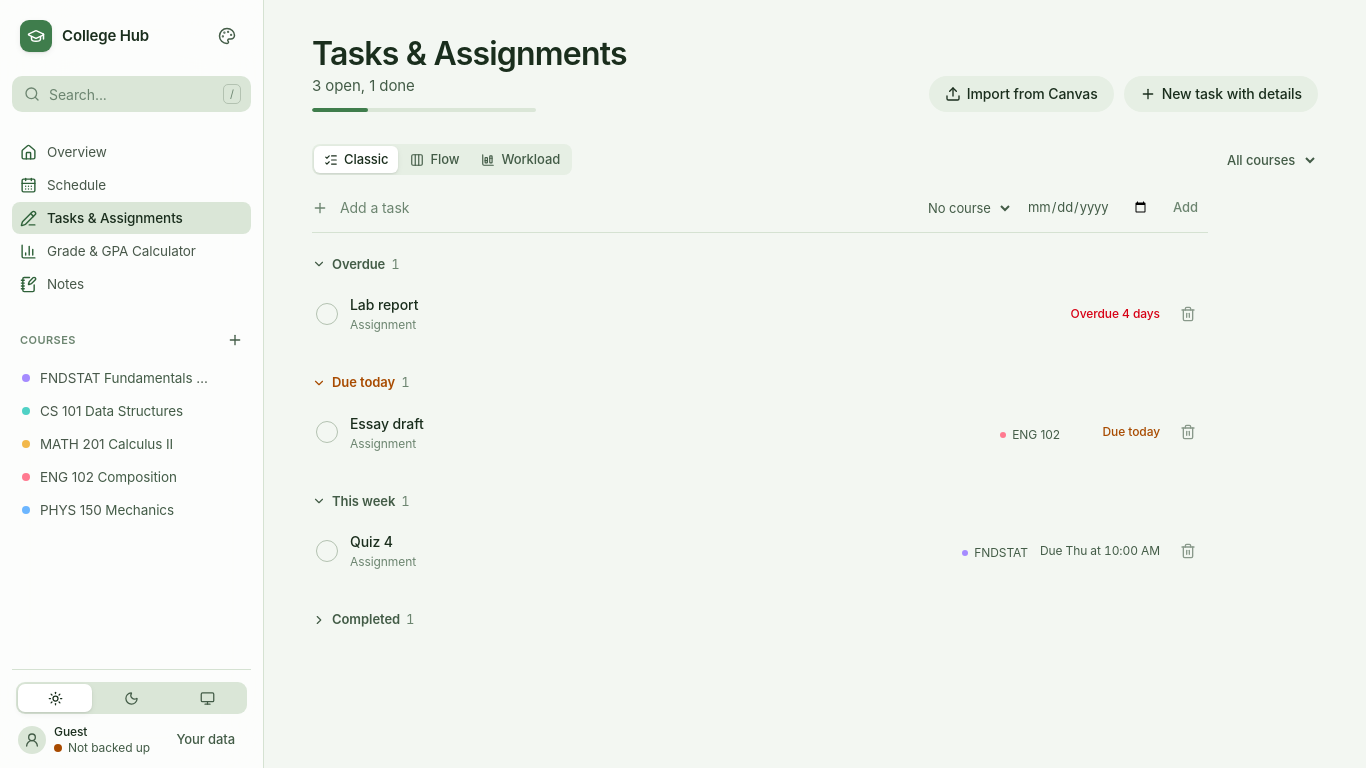
Test: Classic › groups open work by when it is due, with finished work folded away
expect the picture named "25 percent of tasks done" is shown: met, box [312,108,536,112]
expect the element "Overdue" shows "Lab report": met, box [350,290,950,337]
Click the button "Completed 1". click: (363, 620)
box: [308,608,418,632]
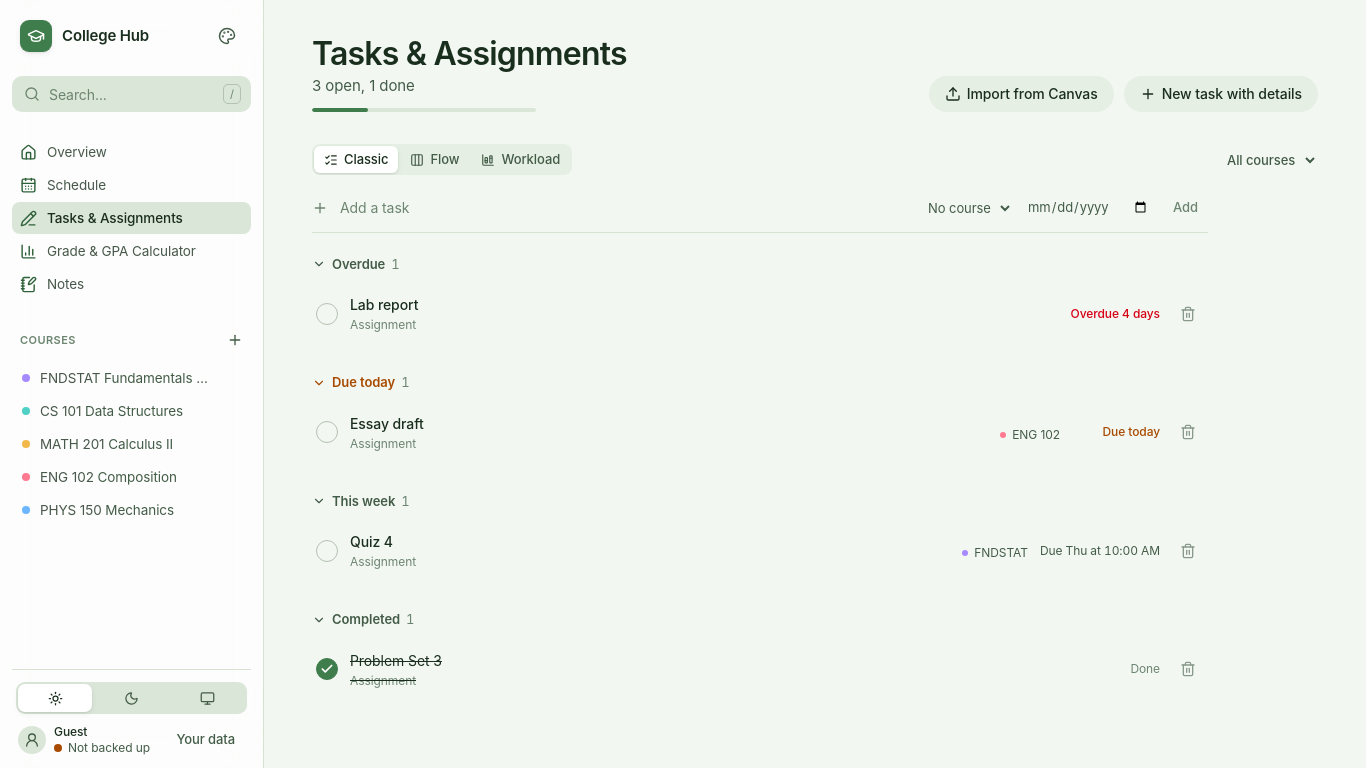
expect the element "Completed" shows "Problem Set 3": met, box [350,646,952,693]
